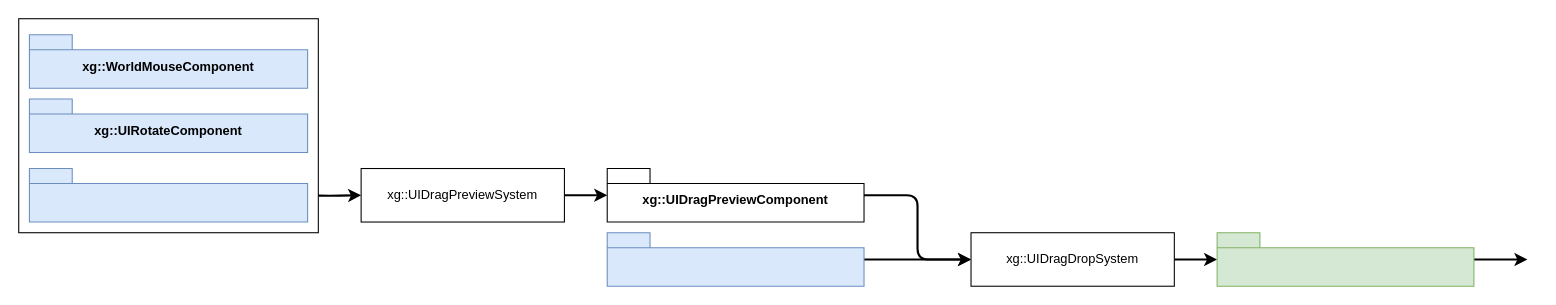
Image size: 1556x305. Some labels were removed from this diagram. The centre of each missing label's shape, as x and y in pixels:
xg::UIAddCogComponent: the point at 1345,259
xg::UIDraggingDropComponent: the point at 735,259
xg::UIPreviewAddingCogComponent: the point at 168,194
